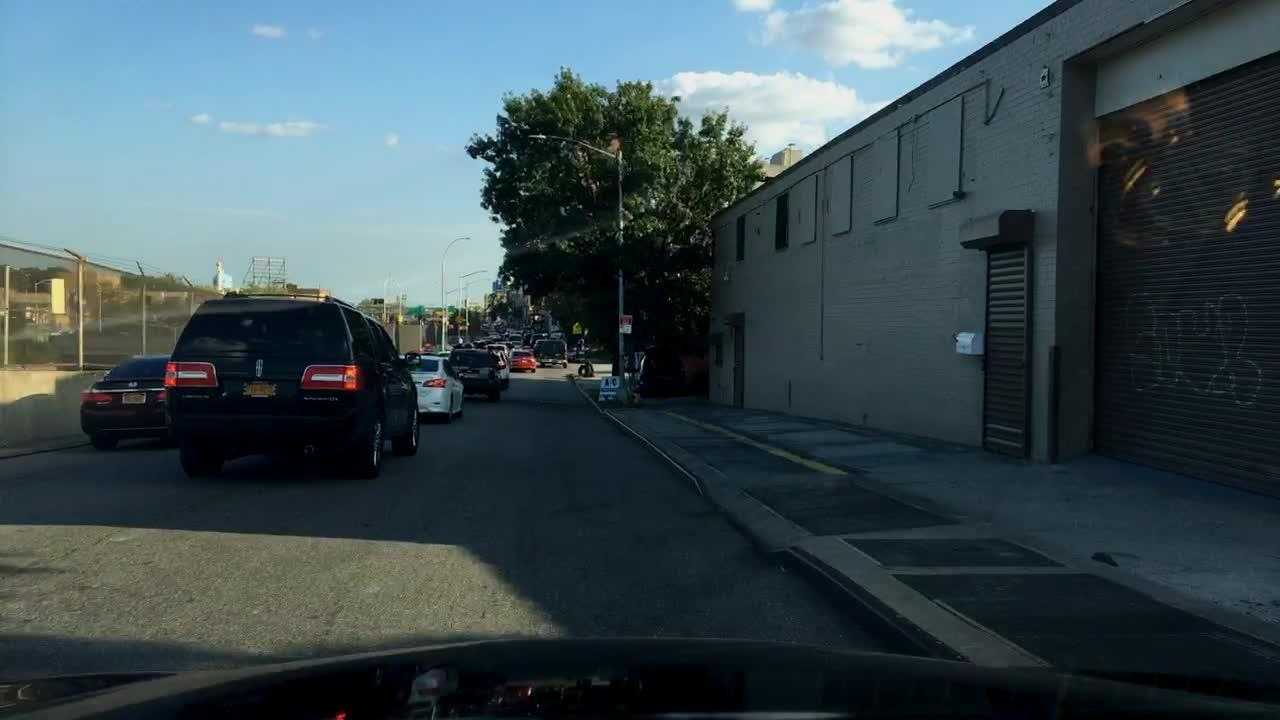lincoln: (252, 354, 266, 383)
